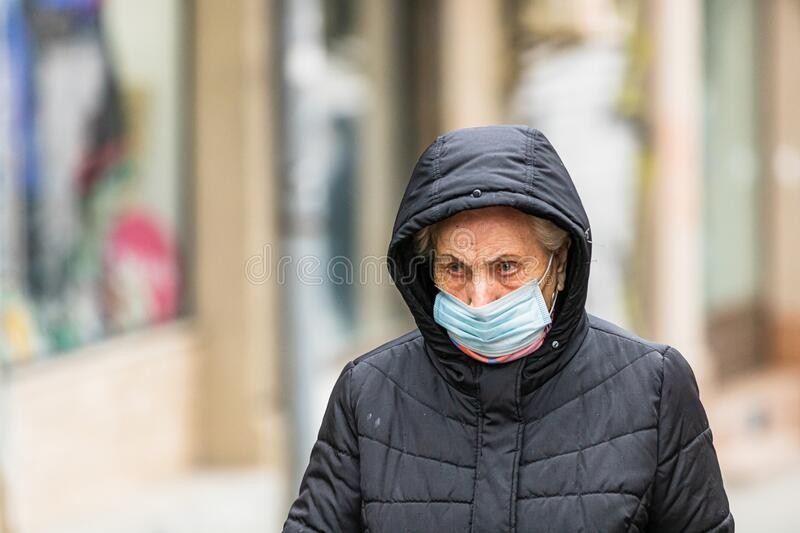with_mask: (419, 193, 573, 355)
